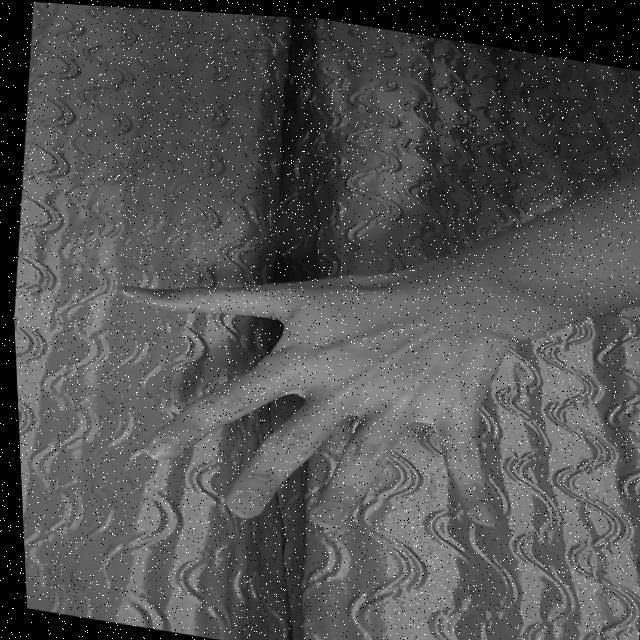no-gloves: (86, 240, 516, 554)
